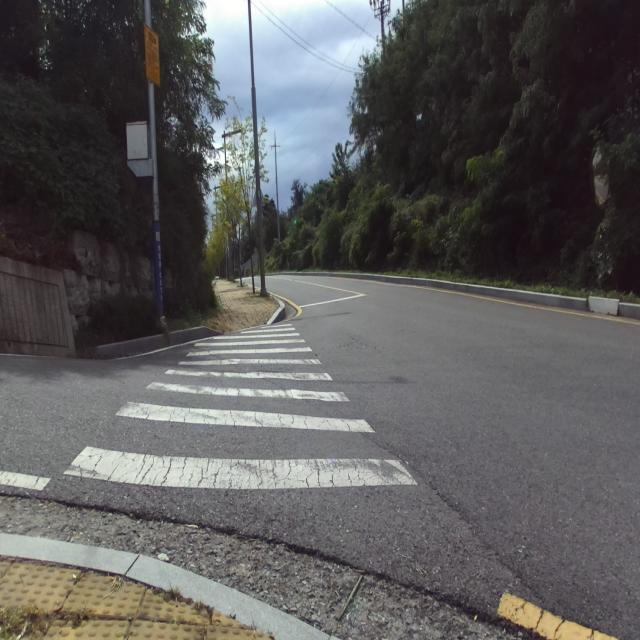횡단보도: (63, 323, 417, 488)
